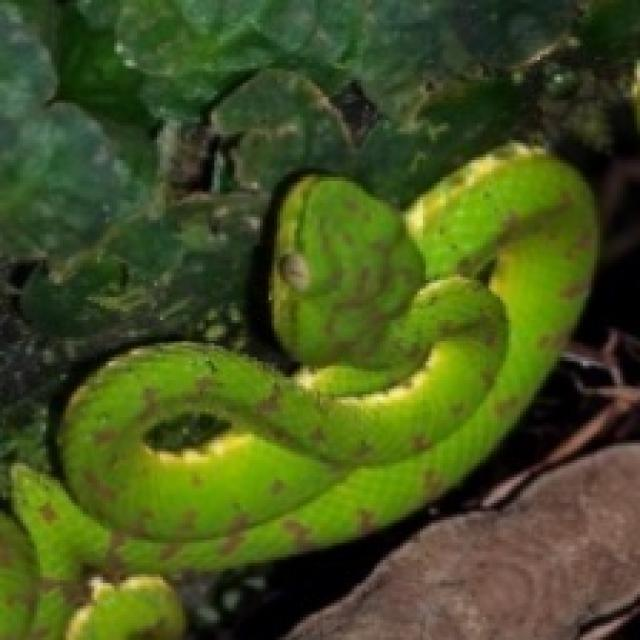philippine pitviper: (0, 143, 594, 637), (40, 146, 594, 571)
